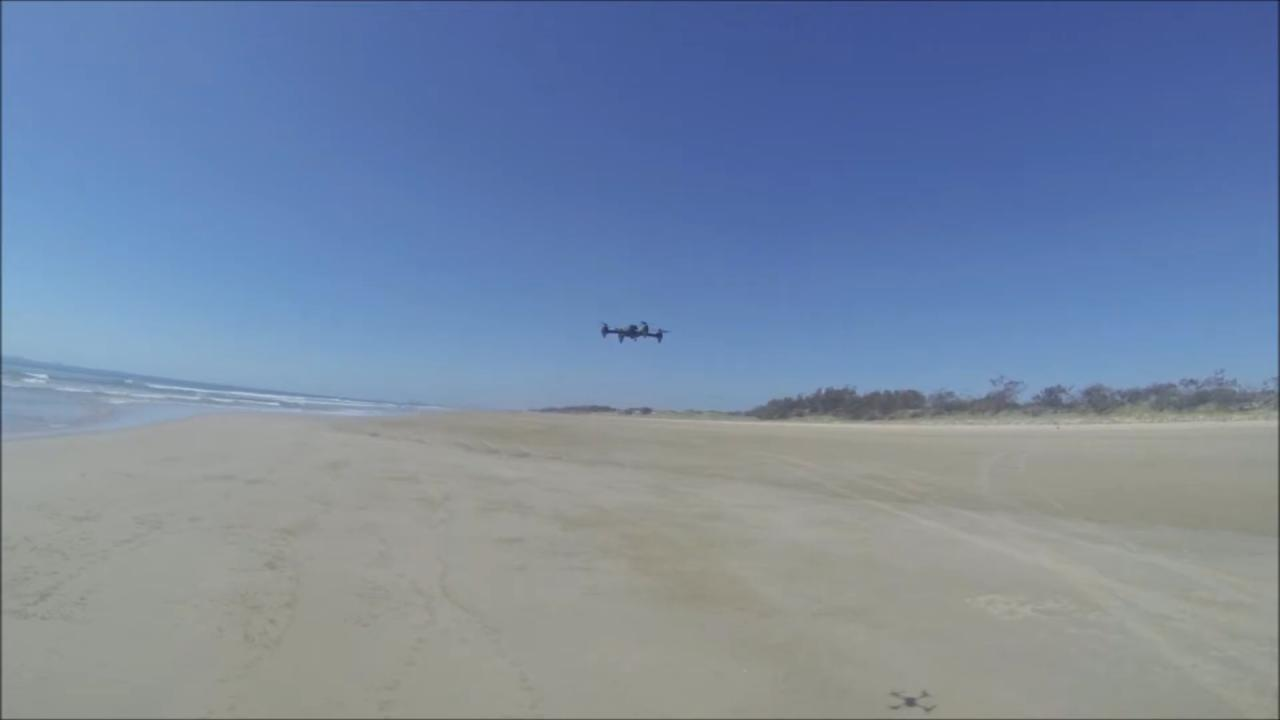Drone: (586, 306, 683, 362)
